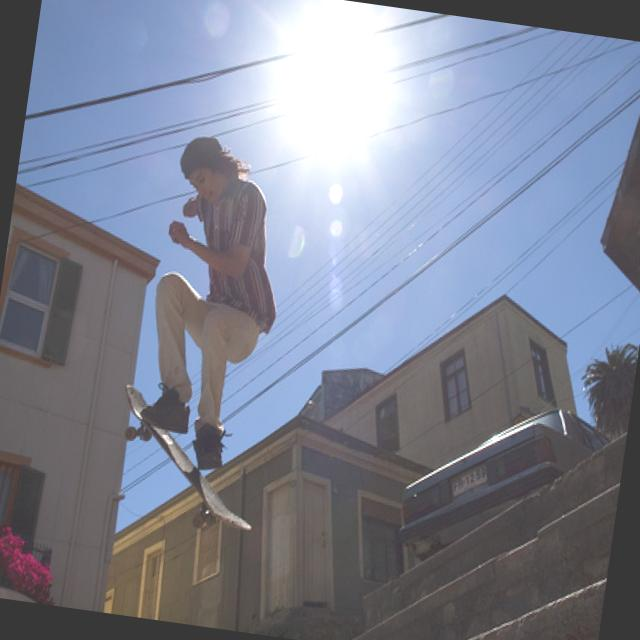Vehicle: (393, 387, 618, 580)
